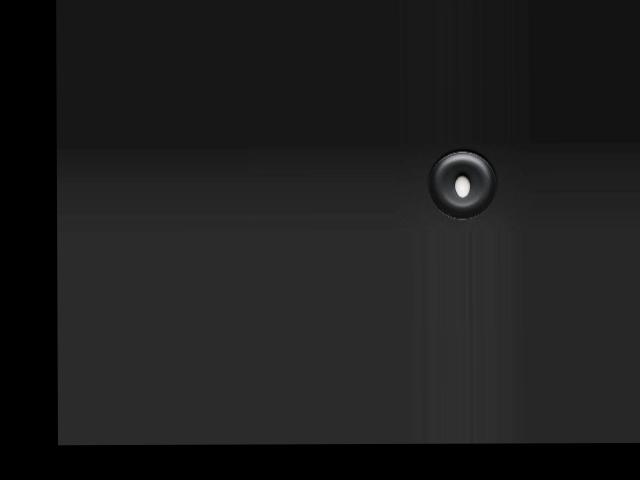egg: (454, 175, 469, 196)
